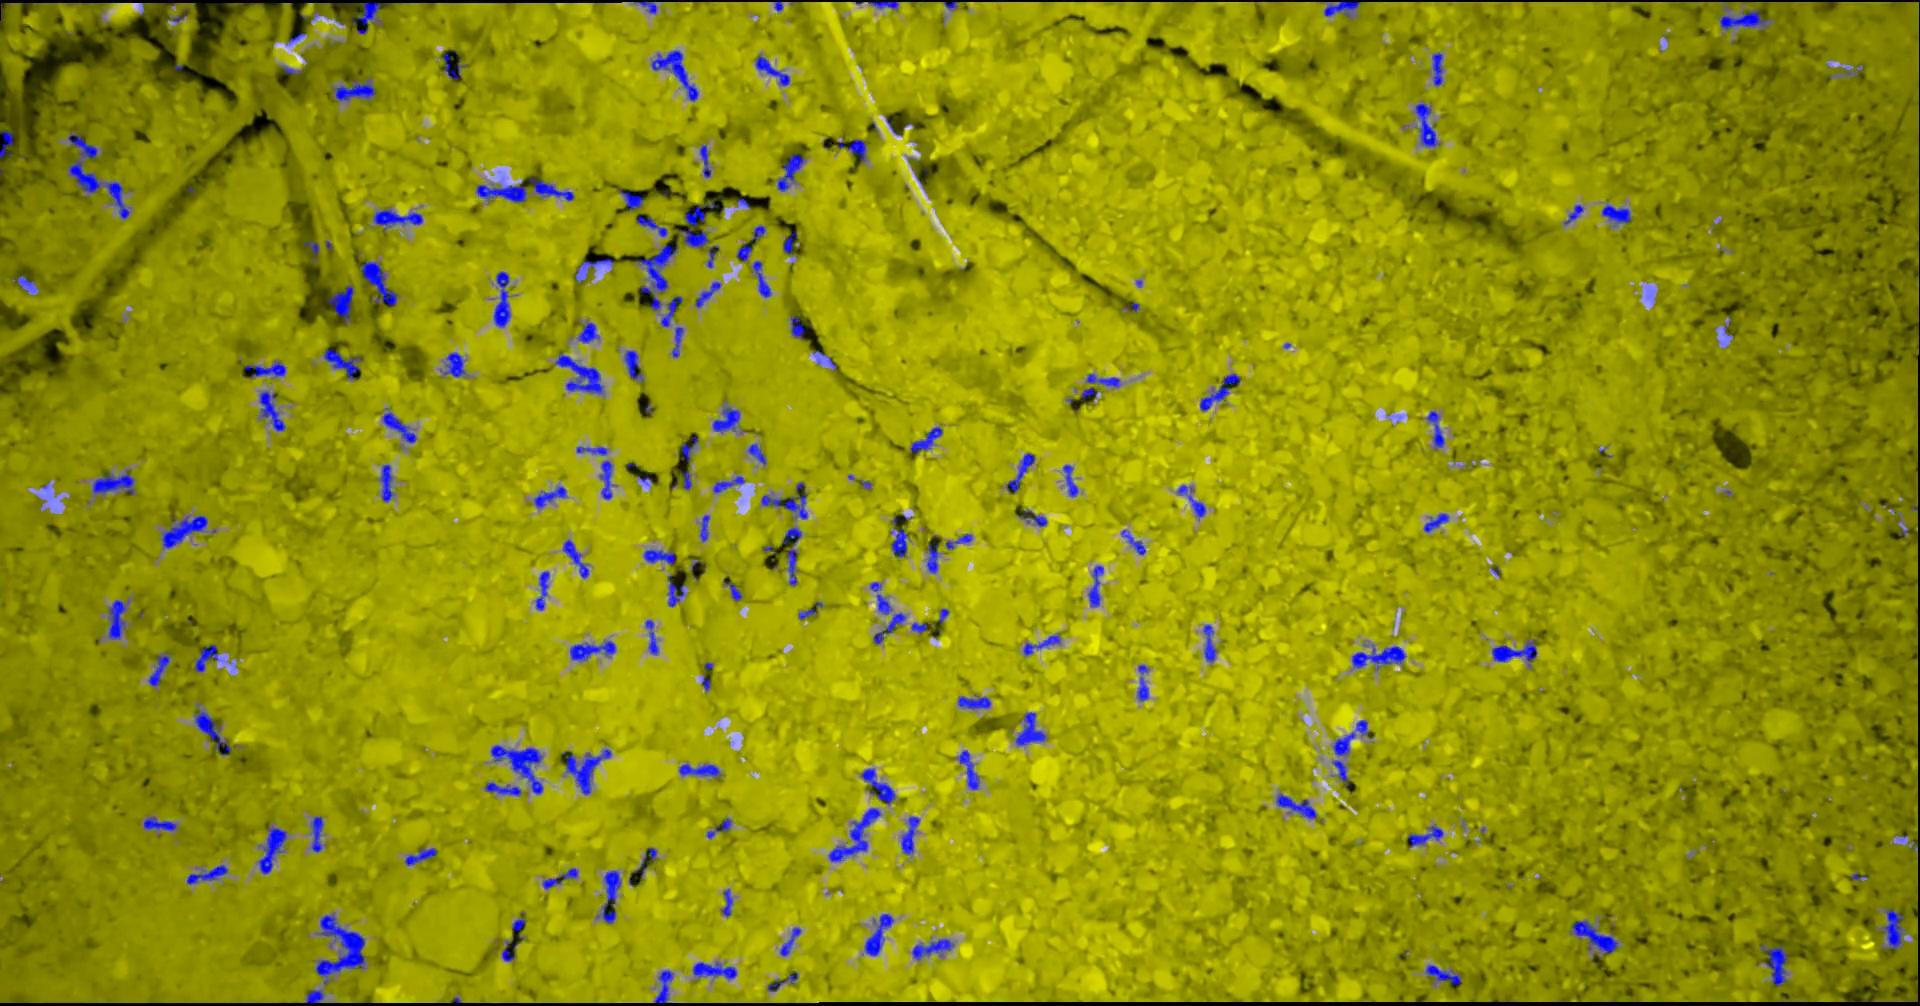ant: (828, 807, 880, 861), (650, 50, 698, 100), (490, 746, 542, 793), (561, 748, 610, 794), (635, 243, 677, 293), (555, 353, 602, 392), (761, 481, 808, 518), (679, 201, 715, 248), (350, 0, 400, 33), (361, 260, 396, 305), (161, 514, 207, 547), (1199, 373, 1239, 410), (196, 711, 230, 754), (1571, 920, 1617, 951), (258, 826, 286, 874), (860, 768, 895, 804), (863, 913, 893, 955), (382, 406, 417, 442), (1491, 639, 1537, 666), (1351, 644, 1404, 667), (1333, 719, 1368, 754), (597, 870, 620, 923), (323, 348, 361, 379), (1759, 944, 1787, 984), (782, 527, 801, 586), (1719, 8, 1768, 30), (475, 180, 526, 202), (91, 469, 135, 494), (372, 208, 422, 230), (1006, 453, 1034, 492), (1275, 793, 1317, 818), (1079, 373, 1119, 400), (1015, 711, 1045, 746), (1415, 103, 1439, 146), (777, 152, 804, 191), (528, 177, 573, 199), (756, 55, 789, 85), (872, 612, 905, 643), (574, 257, 613, 282), (259, 391, 284, 431), (563, 539, 588, 578), (493, 271, 510, 326), (328, 285, 353, 323), (569, 640, 615, 661), (1177, 484, 1205, 517), (910, 937, 952, 959), (910, 426, 942, 453), (334, 79, 375, 100), (185, 864, 227, 884), (957, 749, 979, 789), (1882, 909, 1903, 949), (692, 962, 737, 979), (1023, 634, 1059, 655), (869, 582, 891, 614), (1425, 964, 1460, 984), (632, 847, 657, 876), (752, 260, 771, 297), (149, 652, 169, 686), (542, 868, 577, 888), (695, 281, 720, 307), (902, 815, 919, 854), (1407, 826, 1443, 845), (244, 361, 284, 377), (533, 486, 566, 507), (1087, 565, 1103, 606), (660, 296, 682, 326), (1426, 410, 1444, 447), (108, 600, 124, 639), (712, 406, 739, 431), (194, 644, 218, 671), (891, 516, 907, 558), (636, 215, 665, 236), (767, 970, 797, 991), (1121, 528, 1145, 554), (654, 970, 672, 1005), (1323, 0, 1360, 17), (623, 351, 643, 382), (665, 574, 684, 606), (778, 927, 800, 955), (678, 763, 720, 777), (442, 52, 463, 79), (1332, 760, 1350, 791), (404, 847, 436, 865), (1601, 205, 1630, 224), (643, 549, 676, 565), (535, 572, 549, 610), (712, 475, 744, 492), (618, 188, 643, 210), (443, 352, 465, 376), (706, 817, 730, 838), (378, 464, 392, 500), (599, 460, 612, 499), (1062, 464, 1077, 495), (1203, 624, 1215, 661), (484, 782, 521, 795), (681, 434, 697, 462), (1018, 509, 1046, 526), (957, 694, 990, 708), (645, 619, 658, 654), (143, 815, 175, 829), (1423, 513, 1448, 531), (797, 601, 822, 619), (577, 323, 598, 342), (723, 578, 742, 600), (847, 138, 865, 161), (945, 533, 971, 549), (1137, 664, 1148, 700), (311, 815, 323, 851), (13, 274, 37, 291), (1563, 205, 1583, 224), (670, 326, 683, 357), (926, 542, 938, 573), (1431, 52, 1443, 85), (698, 144, 710, 177), (747, 443, 764, 464), (0, 130, 13, 158), (502, 941, 518, 962), (855, 0, 897, 8), (783, 231, 797, 254), (790, 315, 804, 338), (303, 989, 324, 1005), (632, 0, 657, 13), (721, 888, 731, 916), (577, 446, 607, 455), (698, 514, 709, 541), (510, 912, 524, 931), (750, 225, 764, 243), (303, 241, 317, 259), (706, 245, 717, 267), (737, 245, 752, 260), (650, 293, 662, 310), (910, 622, 927, 633), (682, 471, 691, 489)
